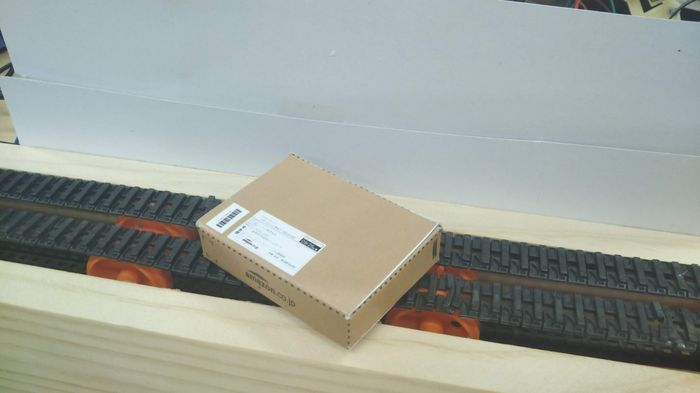box2: (191, 147, 447, 352)
